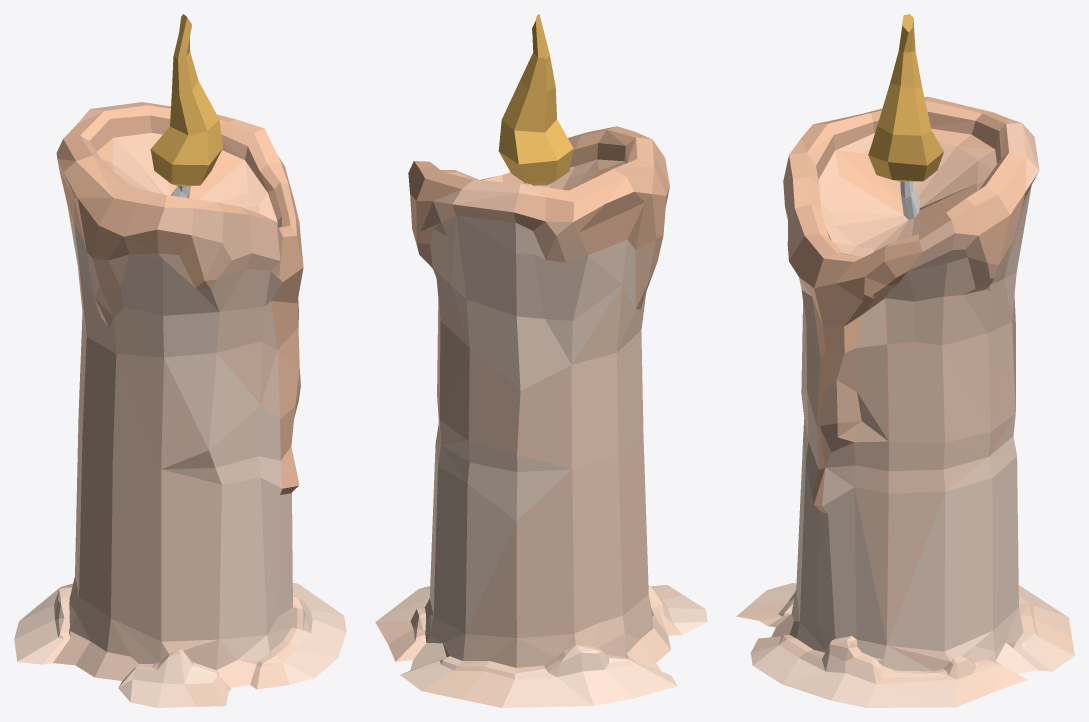
File: WF_LP_HT_Props_Candle.007.fbx
3 renders of one model, left to right at view 1: azimuth 30°, elevation 25°; view 2: azimuth 150°, elevation 25°; view 3: azimuth 270°, elevation 25°, orthographic.
Visible parts, largest first — view 1: WF_LP_HT_Props_Candle.007; view 2: WF_LP_HT_Props_Candle.007; view 3: WF_LP_HT_Props_Candle.007.
Boxes of the visible parts, left/top/right/bottom form: WF_LP_HT_Props_Candle.007: left=14, top=14, right=346, bottom=707; WF_LP_HT_Props_Candle.007: left=375, top=14, right=707, bottom=707; WF_LP_HT_Props_Candle.007: left=736, top=14, right=1074, bottom=707.
Bounding box in the file's own units: 0.1364 × 0.2762 × 0.1355.
